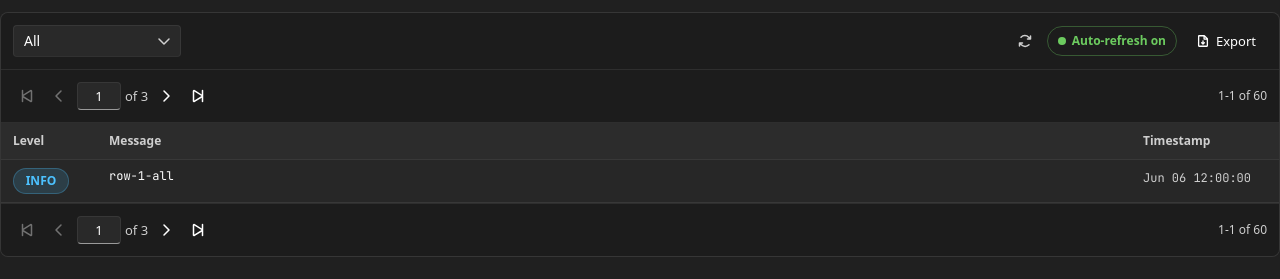
Scenario: LogViewer › resets to page 1 when the filter changes
Expected: the text "row-1-all" is shown, [109, 168, 174, 184]
Click the 1st button named "Next page" at coordinates (166, 96), box [152, 82, 180, 110]
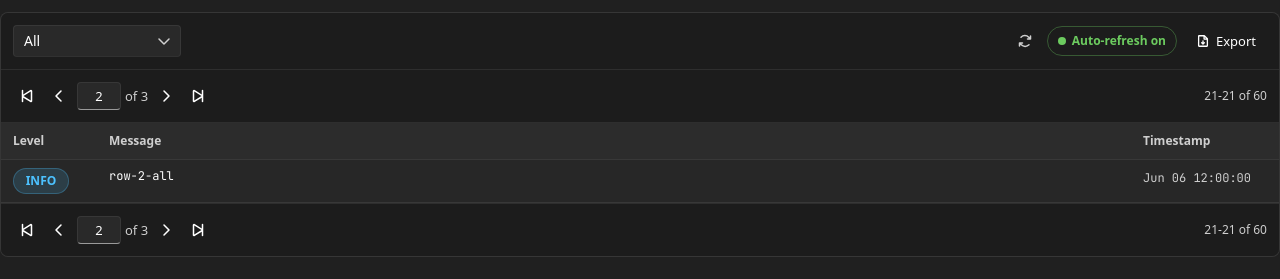
Result: the text "row-2-all" is shown at [109, 168, 174, 184]
Click the dropdown labelled "All" at coordinates (97, 41), box [13, 25, 181, 57]
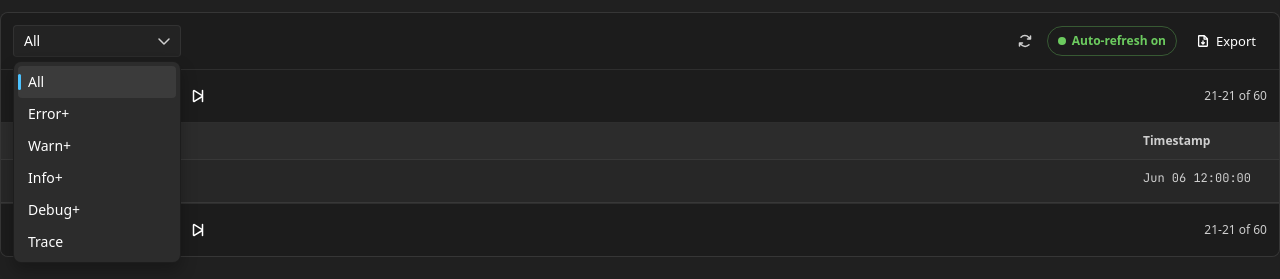
Click the option with test id "log-viewer-level-filter-option-warn" at coordinates (50, 146), box [28, 136, 71, 155]
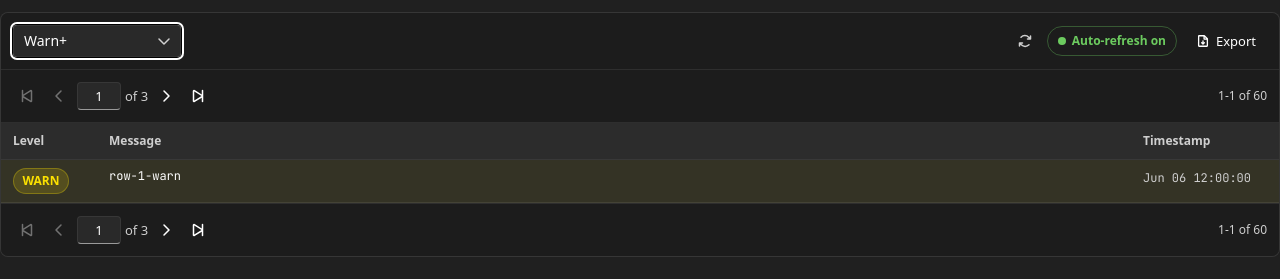
Expected: the 1st field with test id "pagination-page-input" holds "1", [77, 82, 121, 110]
Result: the text "row-1-warn" is shown at [109, 168, 181, 184]
